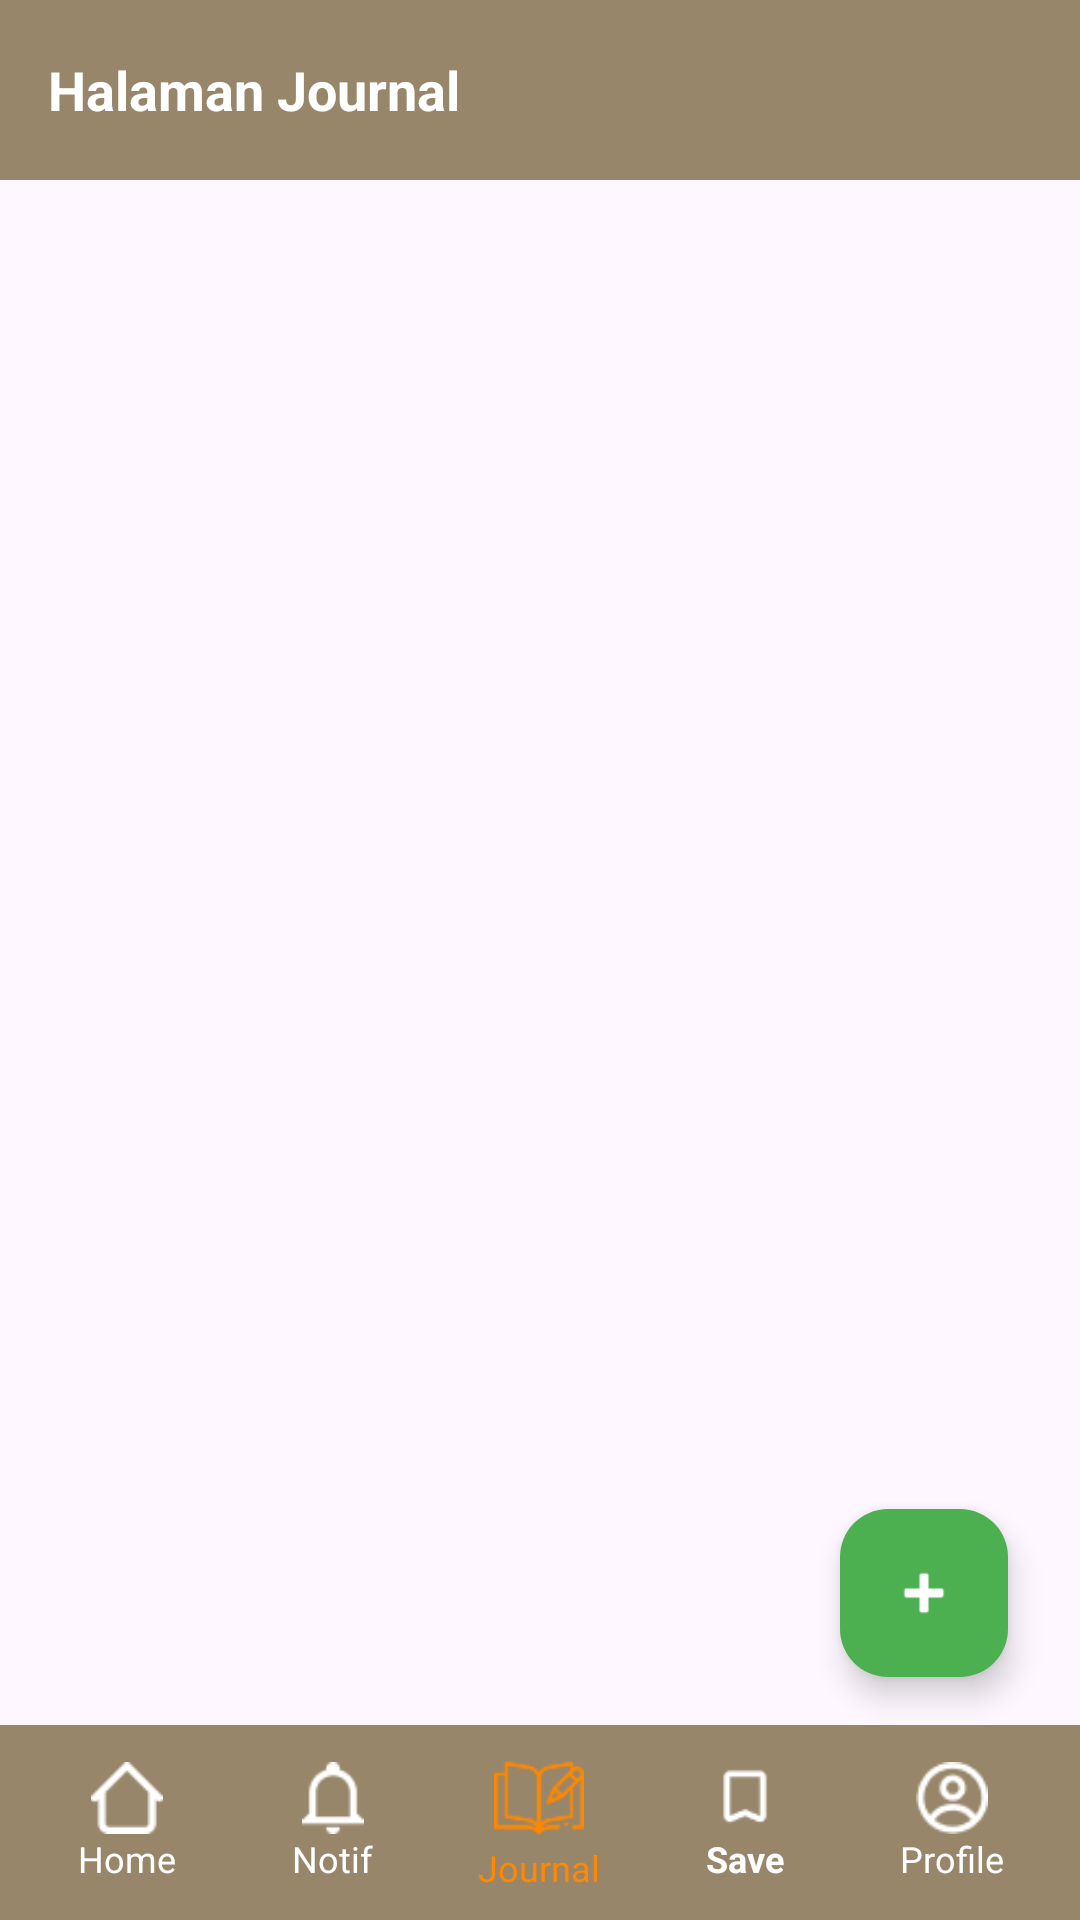

Screen size 1080x1920. Icon name, then its center in pixels as (x,y):
add: (924,1593)
